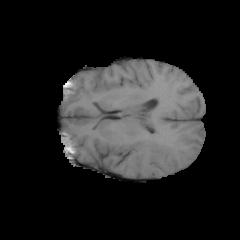glioma: (125, 131, 180, 174)
